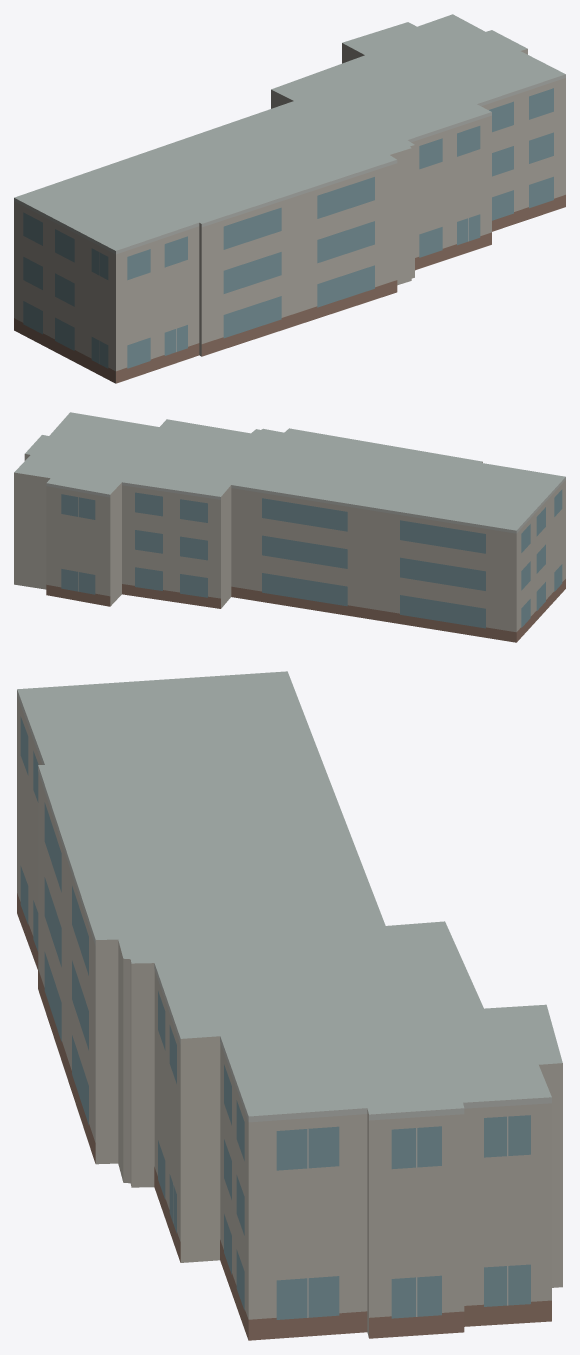
File: survey-upis-32861505.glb
3 renders of one model, top to bottom at view 1: azimuth 30°, elevation 25°; view 2: azimuth 150°, elevation 25°; view 3: azimuth 270°, elevation 25°, orthographic. The views are drawn at different scales.
Visible parts, largest first — view 1: survey-upis-32861505.tmp; view 2: survey-upis-32861505.tmp; view 3: survey-upis-32861505.tmp.
Boxes of the visible parts, bbox=[...] form: survey-upis-32861505.tmp: bbox=[14, 14, 565, 383]; survey-upis-32861505.tmp: bbox=[14, 412, 565, 642]; survey-upis-32861505.tmp: bbox=[17, 671, 562, 1340].
Bounding box in the file's own units: 38.99 × 9.15 × 20.21.
